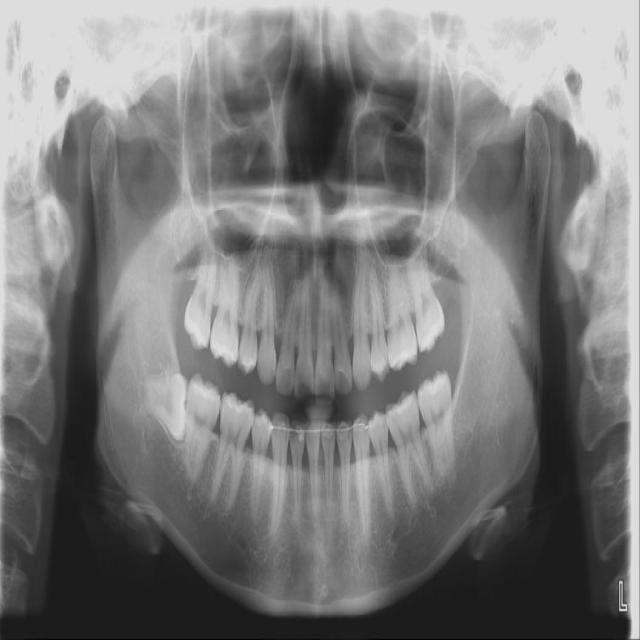impacted tooth: (142, 372, 185, 443)
